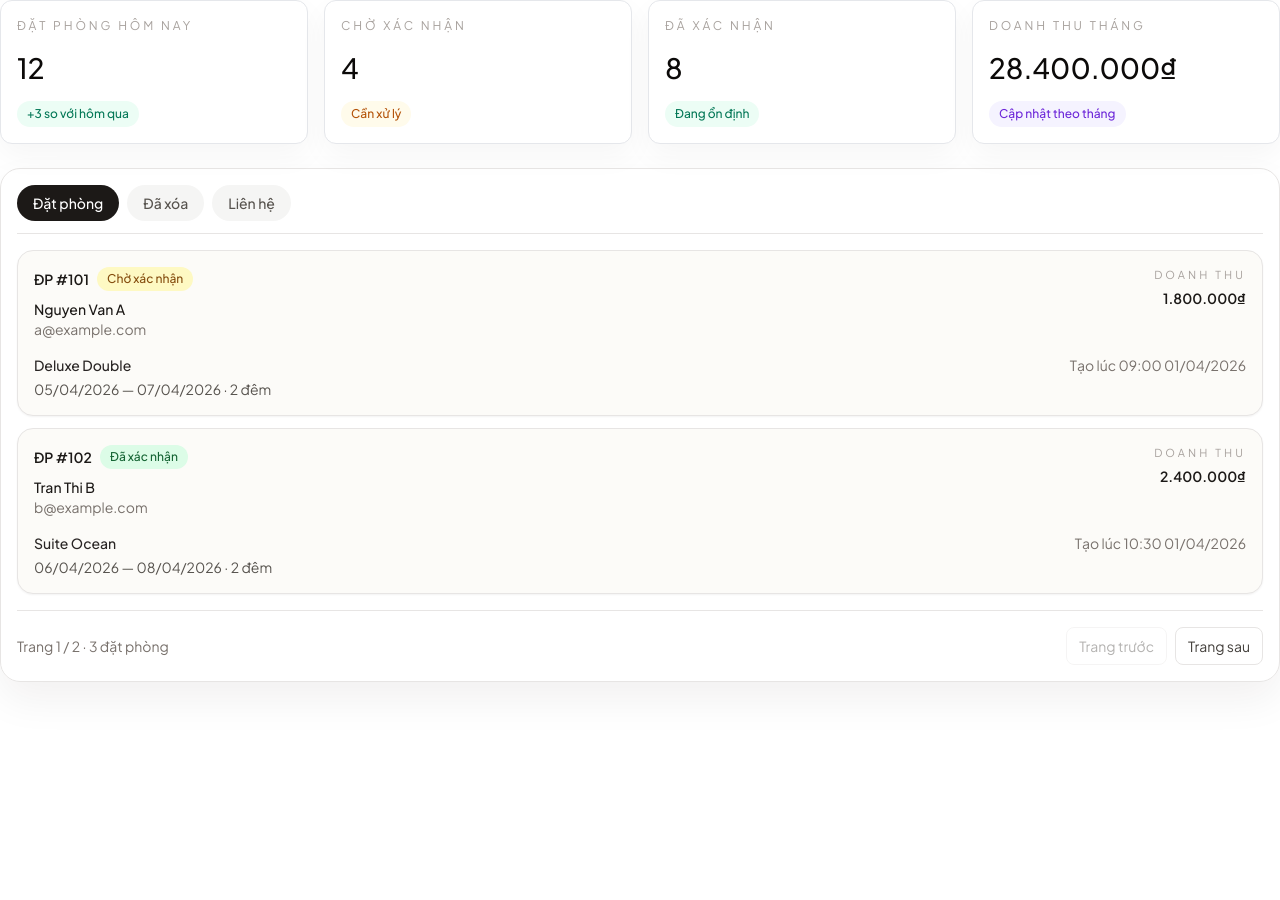
Test: AdminDashboard › shows contact messages with a new badge for unread items
The width and height of the screenshot is (1280, 900).
Expected: the link "ĐP #101" is shown, [34,269,89,289]
What coordinates should you click on to do the following:
click the tab "Liên hệ"
I would click on:
 (252, 203)
Its box is [212,185,291,221].
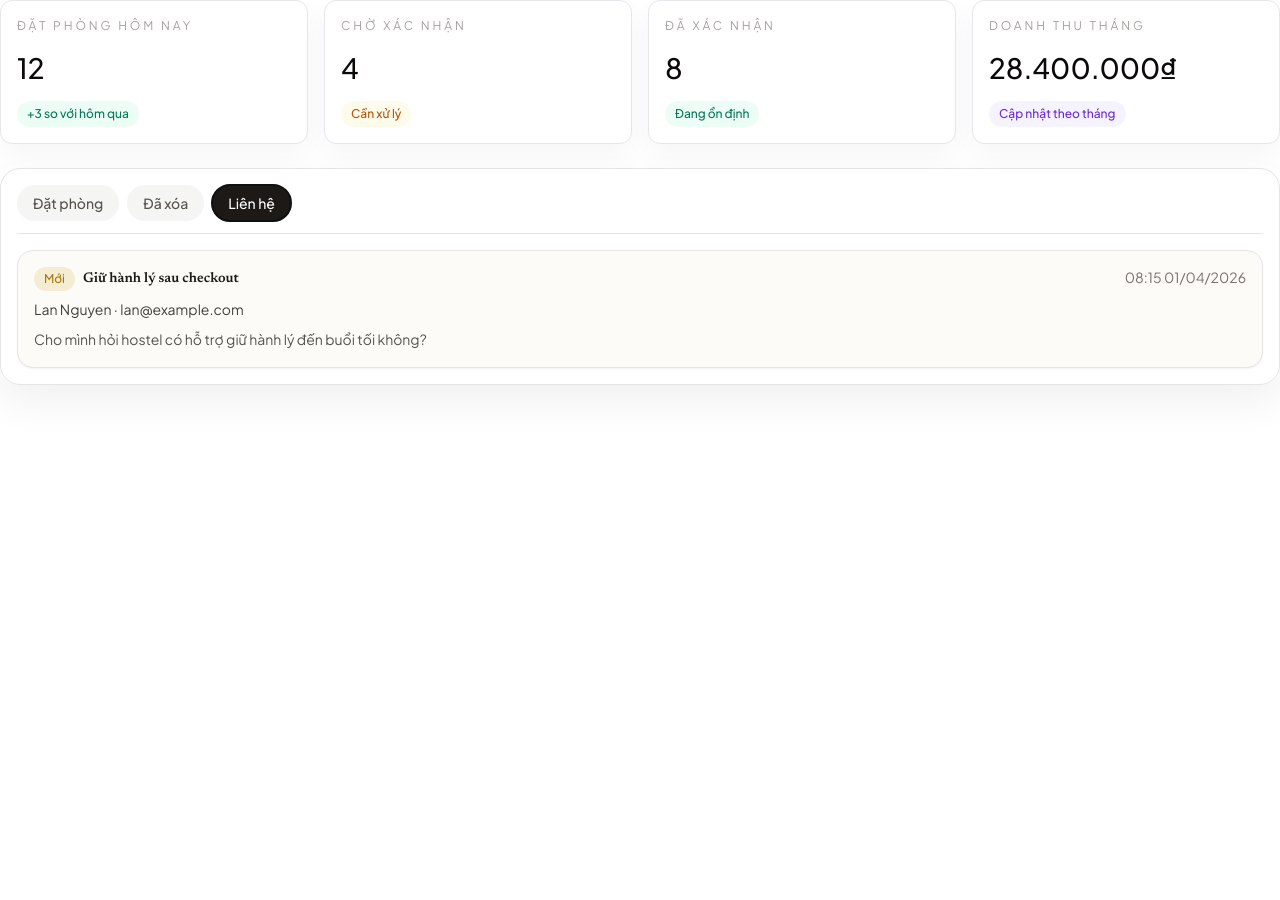
Result: the heading "Giữ hành lý sau checkout" is shown at [83,269,239,289]
Result: the text "Mới" is shown at [34,267,75,291]
Result: the text "Cho mình hỏi hostel có hỗ trợ giữ hành lý đến buổi tối không?" is shown at [34,327,427,351]
